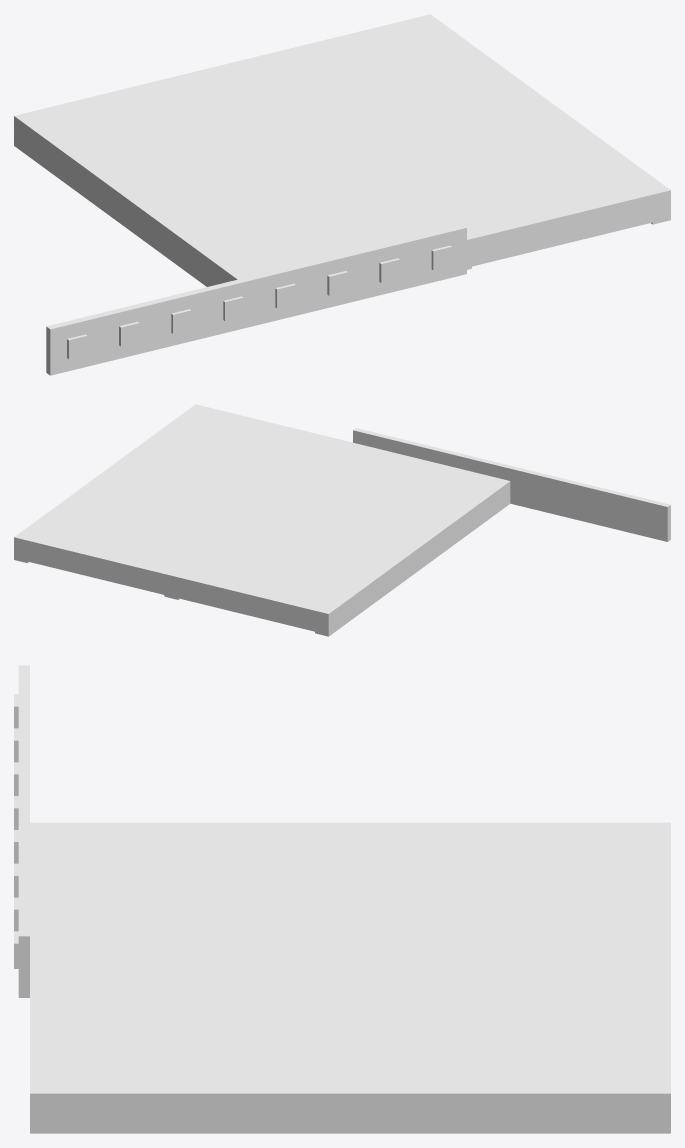
File: Decor_Trim.fbx
3 views of the same model, one above another, from view 1: azimuth 30°, elevation 25°; view 2: azimuth 150°, elevation 25°; view 3: azimuth 270°, elevation 25° (orthographic). The views are drawn at different scales.
Visible parts, largest first — view 1: Ceiling_8x8_Tin, Decor_Frieze_8; view 2: Ceiling_8x8_Tin, Decor_Frieze_8; view 3: Ceiling_8x8_Tin, Decor_Frieze_8.
Part boxes in pixels (bbox=[...]): Ceiling_8x8_Tin: bbox=[14, 14, 670, 286]; Decor_Frieze_8: bbox=[46, 224, 466, 375]; Ceiling_8x8_Tin: bbox=[14, 404, 510, 636]; Decor_Frieze_8: bbox=[353, 428, 670, 541]; Ceiling_8x8_Tin: bbox=[30, 822, 670, 1133]; Decor_Frieze_8: bbox=[14, 665, 29, 997].
Size of the model in its own units: 12 by 0.85 by 8.2.
1 material, 1 textured.
